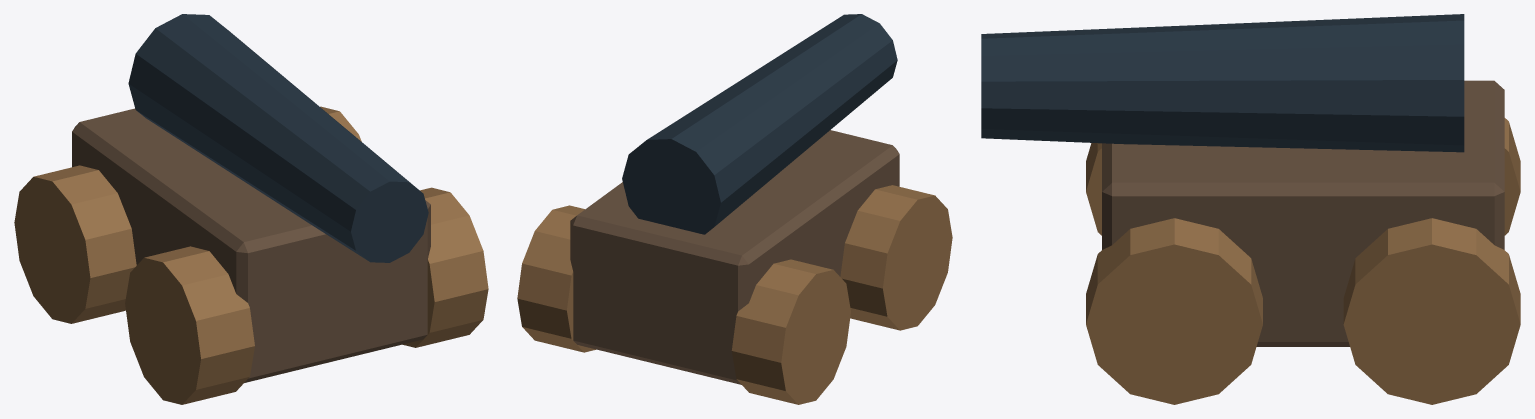
The model's file is equipment-cannon.lod0.glb.
3 views of the same model, side by side, from view 1: azimuth 30°, elevation 25°; view 2: azimuth 150°, elevation 25°; view 3: azimuth 270°, elevation 25° (orthographic). The views are drawn at different scales.
Parts seen in each view (by area): view 1: equipment-cannon__body, equipment-cannon__barrel; view 2: equipment-cannon__body, equipment-cannon__barrel; view 3: equipment-cannon__body, equipment-cannon__barrel.
Boxes of the visible parts, left/top/right/bottom form: equipment-cannon__body: left=14, top=106, right=488, bottom=404; equipment-cannon__barrel: left=128, top=14, right=428, bottom=262; equipment-cannon__body: left=517, top=130, right=952, bottom=404; equipment-cannon__barrel: left=622, top=14, right=897, bottom=234; equipment-cannon__body: left=1086, top=80, right=1520, bottom=404; equipment-cannon__barrel: left=981, top=14, right=1464, bottom=152.
Bounding box in the file's own units: 0.96 × 0.83 × 1.34.
